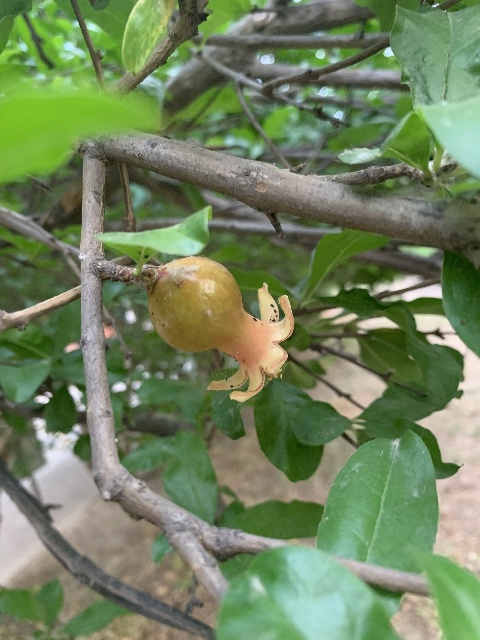early-fruit: (148, 256, 294, 403)
